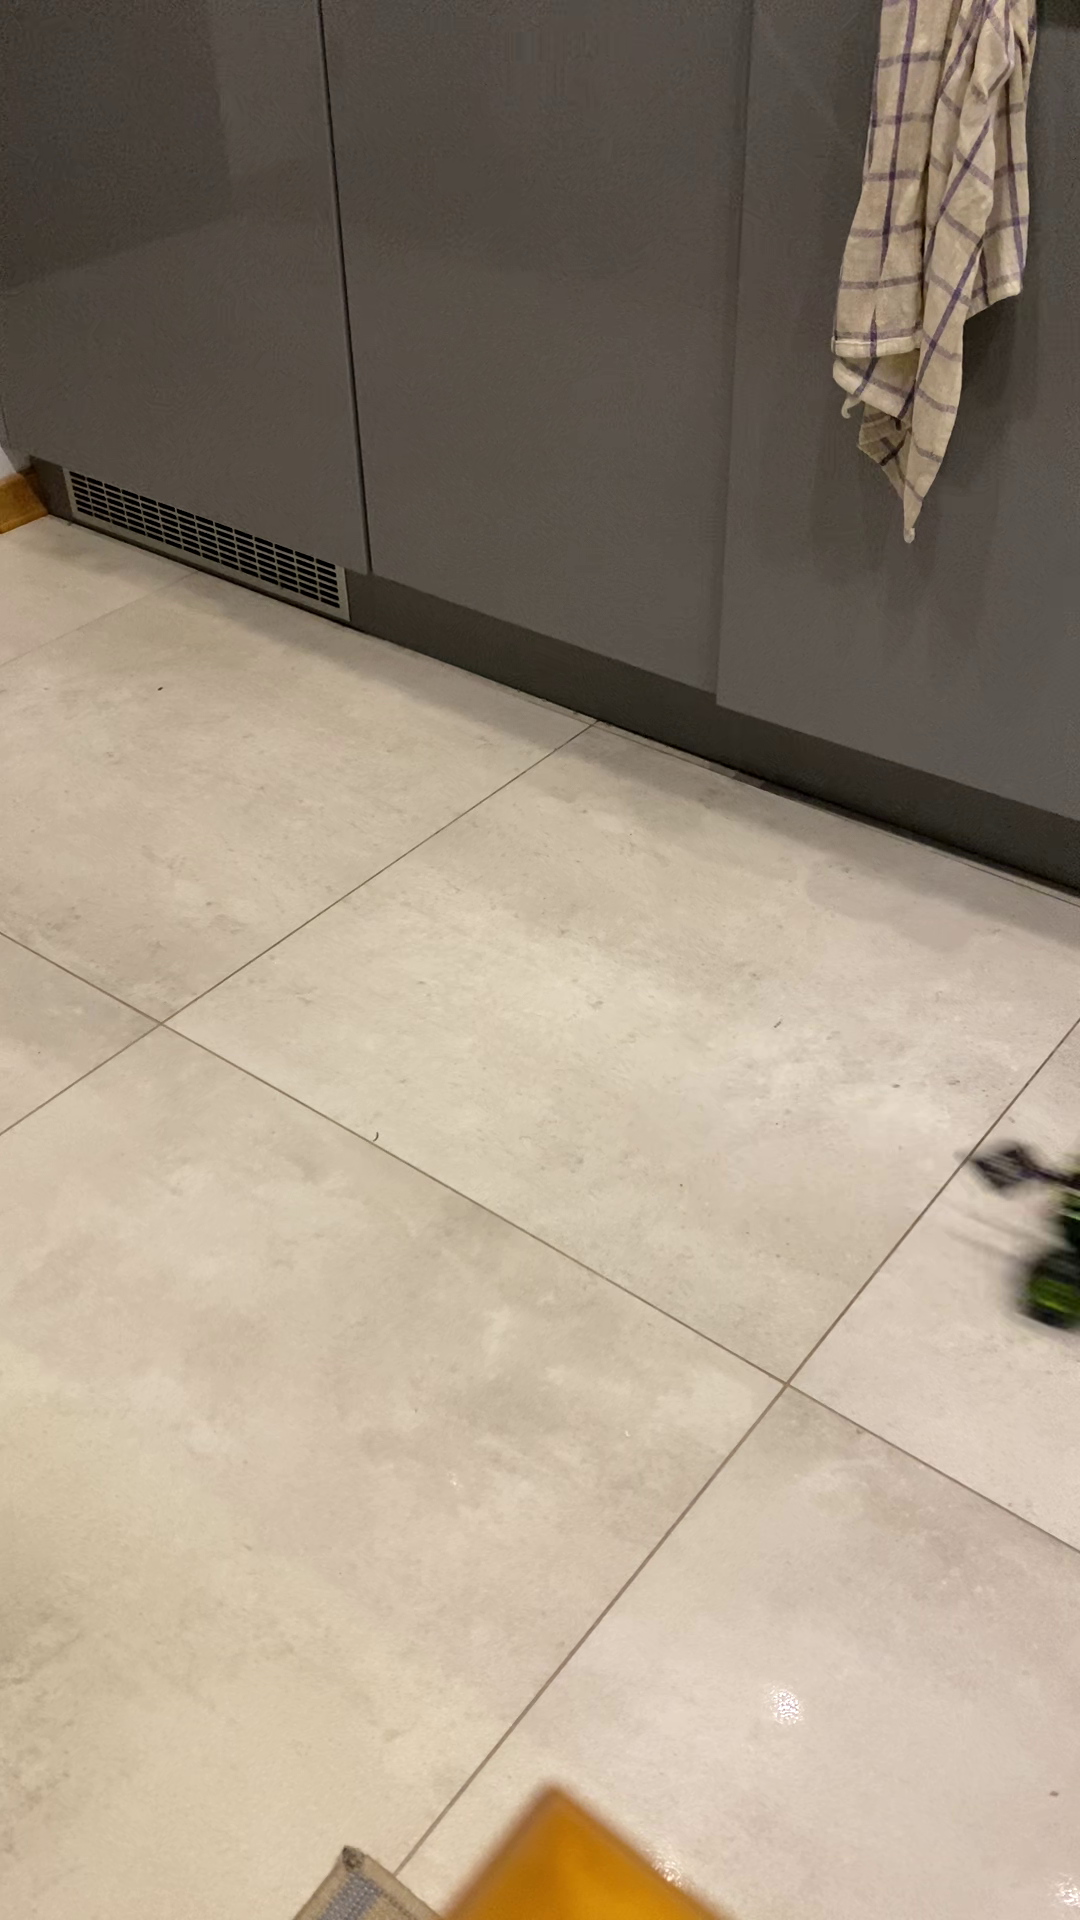car: (980, 1127, 1080, 1325)
